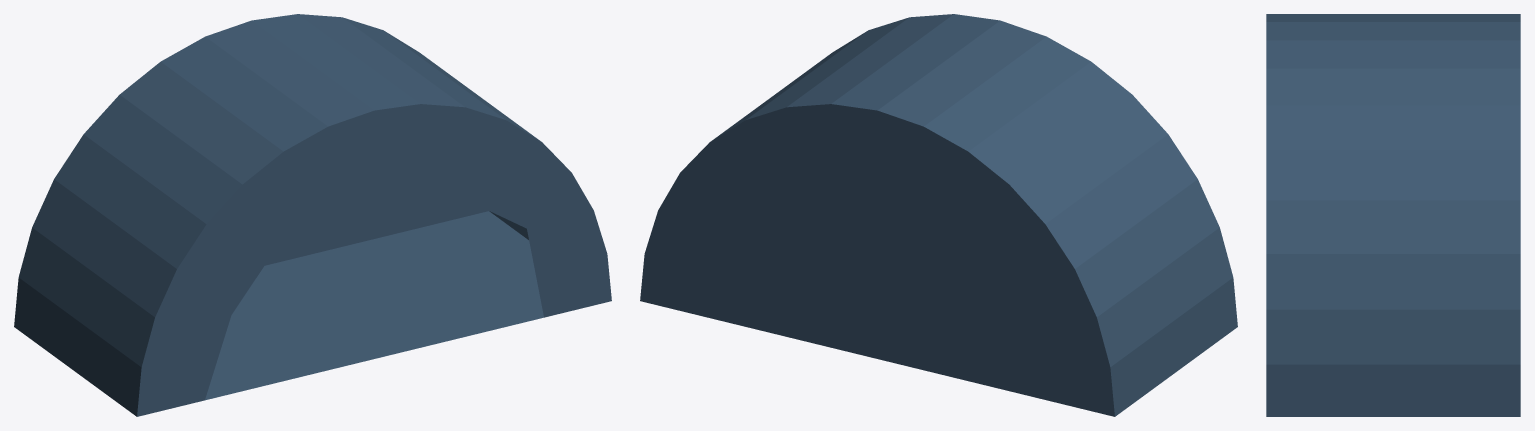
The model's file is endPointModel.fbx.
3 views of the same model, side by side, from view 1: azimuth 30°, elevation 25°; view 2: azimuth 150°, elevation 25°; view 3: azimuth 270°, elevation 25° (orthographic). The views are drawn at different scales.
Visible parts, largest first — view 1: Cylinder; view 2: Cylinder; view 3: Cylinder.
Part boxes in pixels (box(x1,y1,x2,y2)): Cylinder: box(14, 14, 611, 416); Cylinder: box(640, 14, 1237, 416); Cylinder: box(1266, 14, 1520, 416).
Bounding box in the file's own units: 200 × 100 × 89.72.
